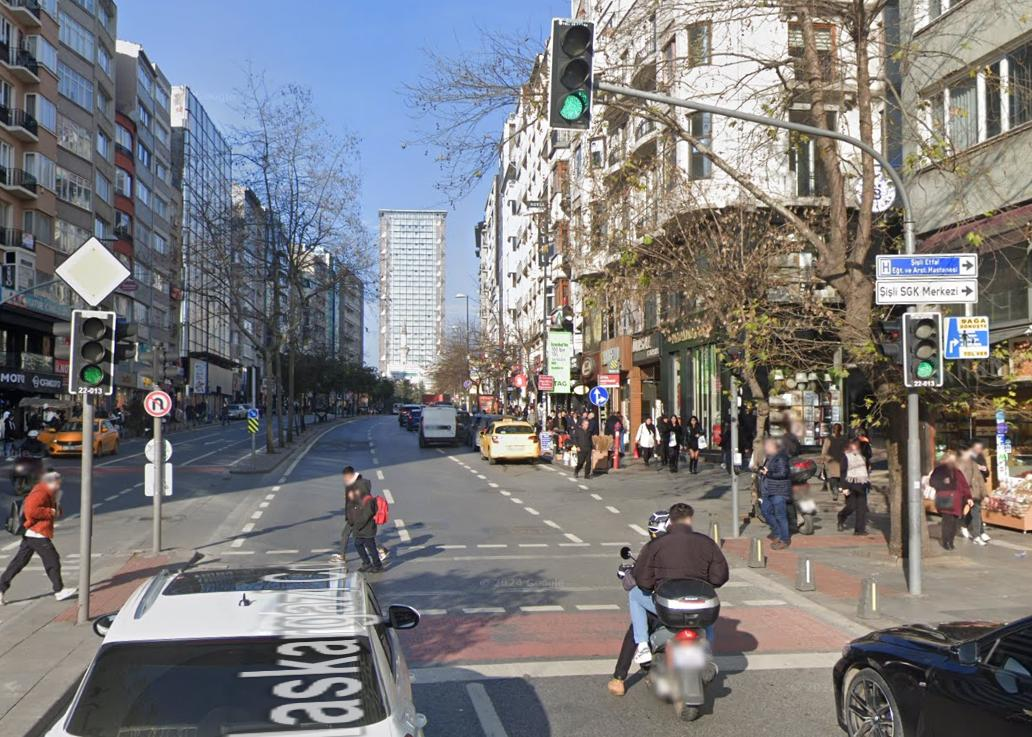greenlight: (556, 20, 595, 132), (69, 310, 116, 394), (900, 308, 937, 385)
